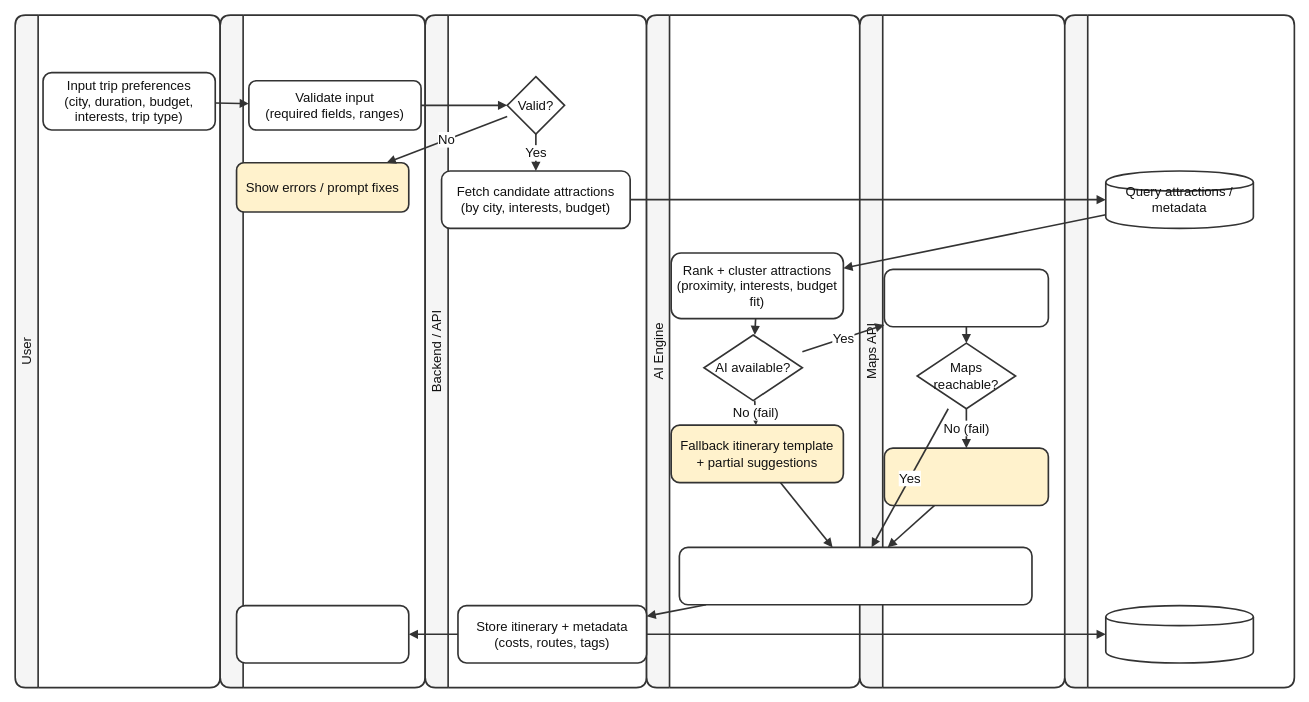
Some shapes in this 1309 by 702 pixel diagram are drawn without their labels. Each missing label, with the box of its shape:
App UI: (219, 14, 426, 688)
Build day-by-day itinerary (days, time windows, costs): (678, 546, 1032, 605)
Database: (1064, 14, 1295, 688)
Display itinerary + map links: (235, 604, 409, 663)
Request distance/time matrix or routing estimates: (883, 268, 1049, 327)
Save itinerary: (1105, 604, 1254, 663)
Use cached / partial routes + retry option: (883, 447, 1049, 506)
